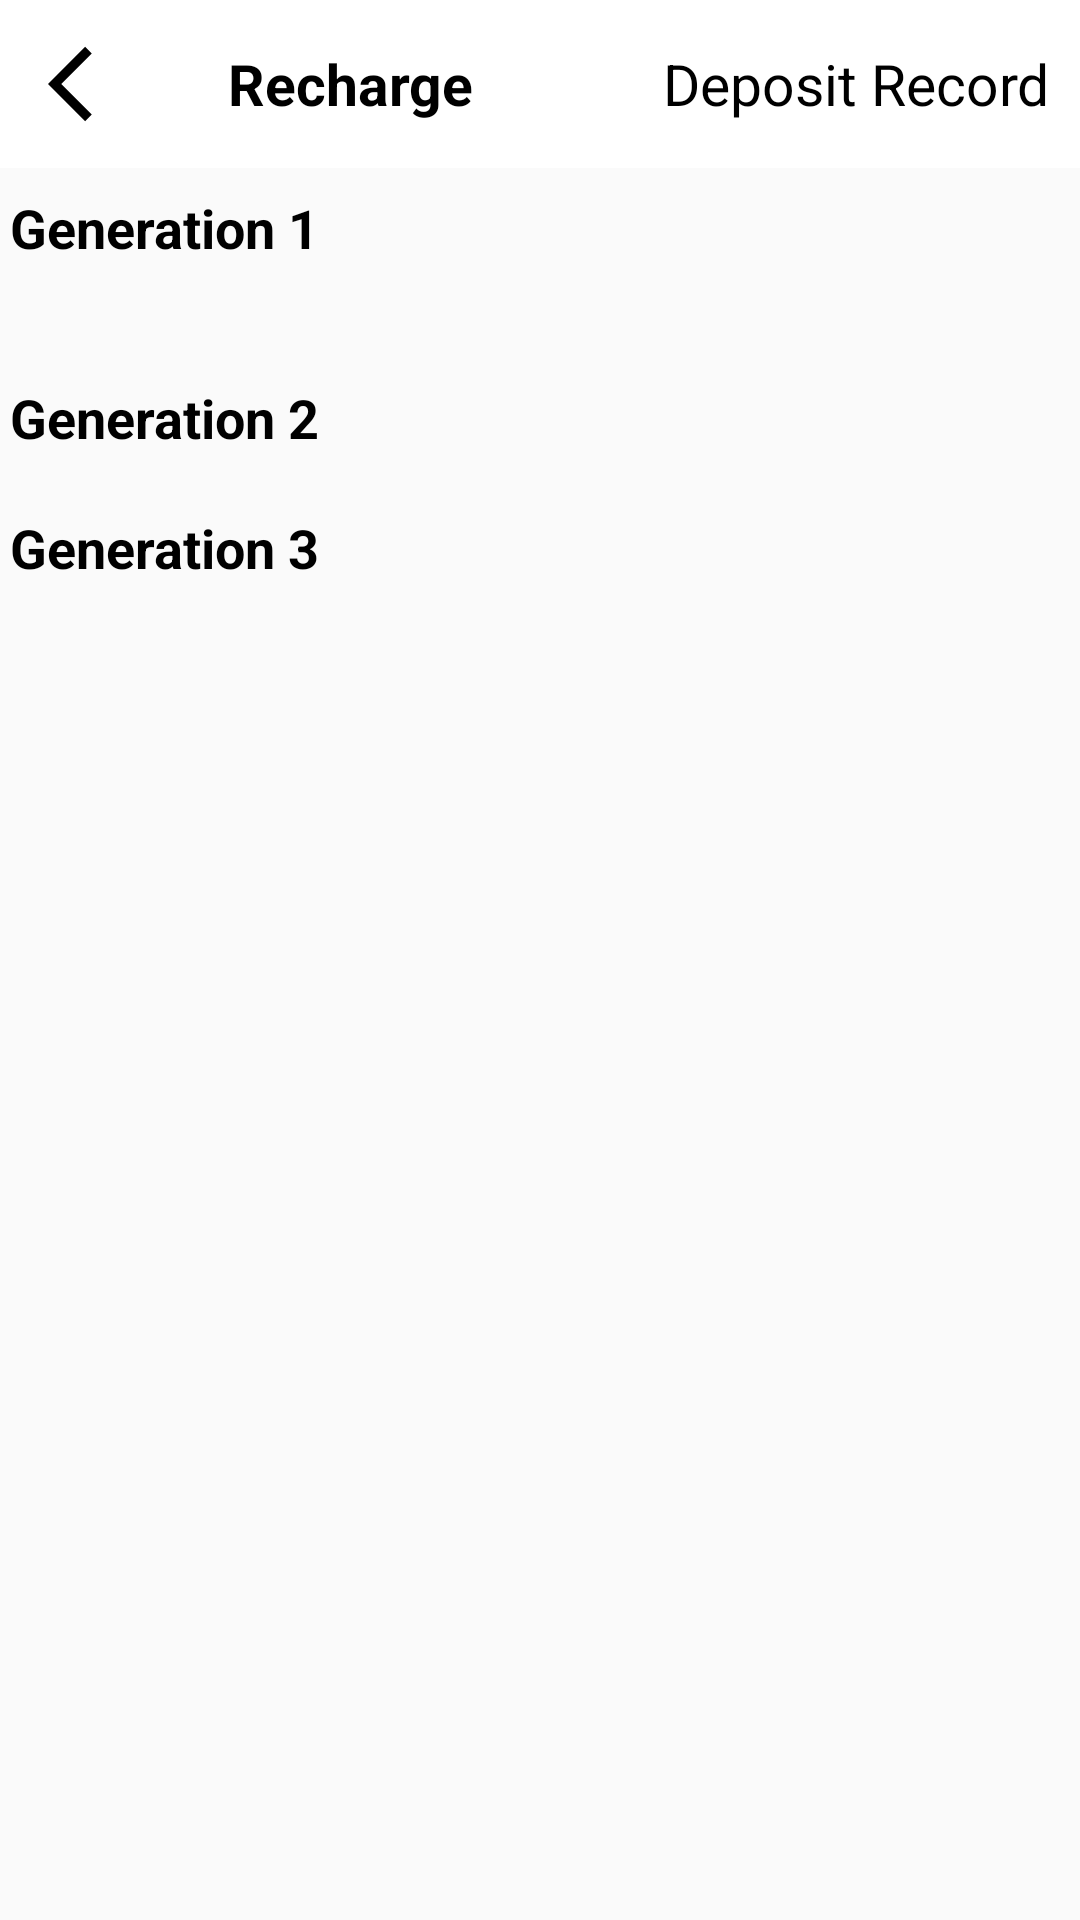

Icons on this 1080*1920 Android screen, each with its box as (x1,y1,x2,y2):
back: (48,47,92,121)
